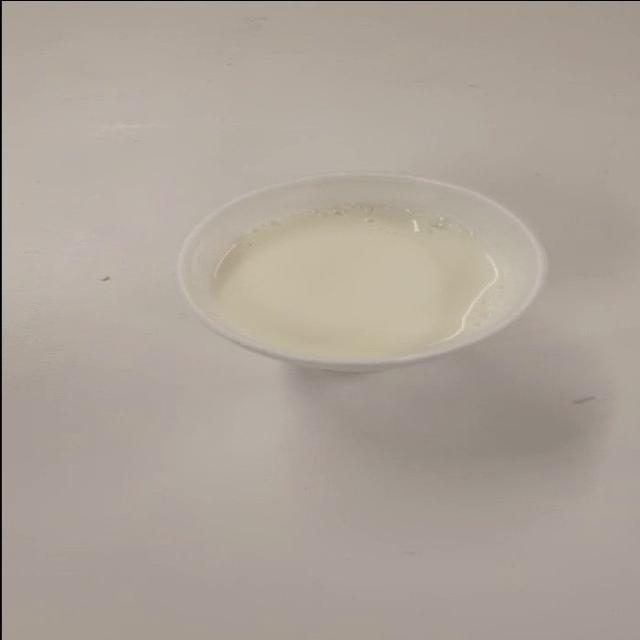Milk: (156, 143, 579, 403)
